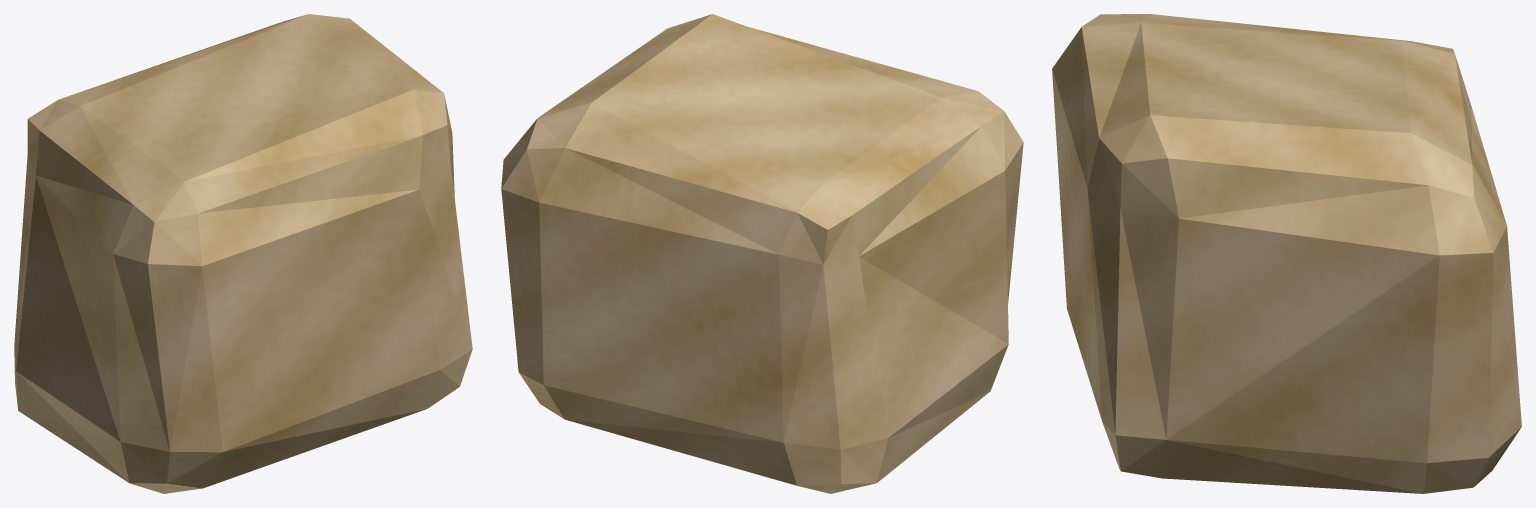
Rendered from sandstone.glb.
3 renders of one model, left to right at view 1: azimuth 30°, elevation 25°; view 2: azimuth 150°, elevation 25°; view 3: azimuth 270°, elevation 25°, orthographic. The views are drawn at different scales.
Visible parts, largest first — view 1: Worn_Sandstone_Reserve_100; view 2: Worn_Sandstone_Reserve_100; view 3: Worn_Sandstone_Reserve_100.
Boxes of the visible parts, bbox=[...] form: Worn_Sandstone_Reserve_100: bbox=[14, 14, 472, 493]; Worn_Sandstone_Reserve_100: bbox=[501, 14, 1023, 493]; Worn_Sandstone_Reserve_100: bbox=[1052, 14, 1521, 493].
Size of the model in its own units: 0.8744 by 0.7485 by 0.7994.
Materials: 1 (1 with a texture image).
